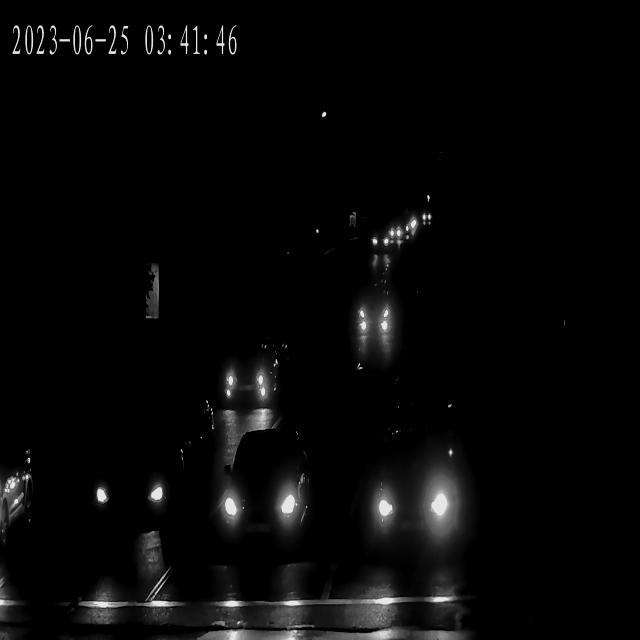Car: (352, 430, 462, 547), (216, 434, 314, 550), (80, 437, 181, 533), (0, 426, 40, 573), (219, 339, 278, 402), (354, 290, 393, 337), (368, 232, 392, 254), (392, 222, 408, 254), (419, 206, 433, 230), (406, 216, 421, 232)
Motorcycle: (184, 386, 221, 483)
